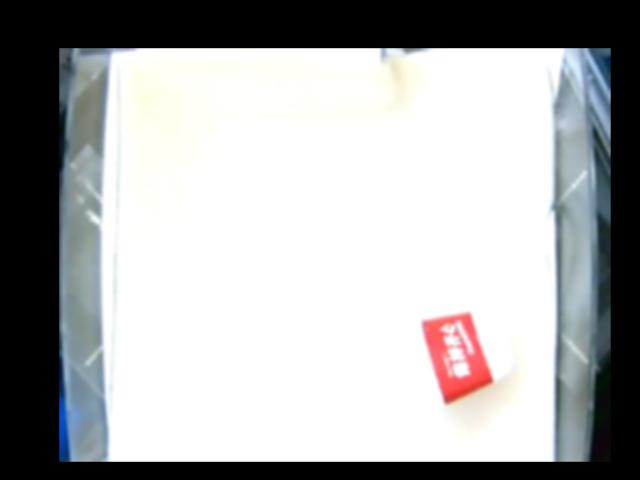Cup: (397, 310, 511, 410)
